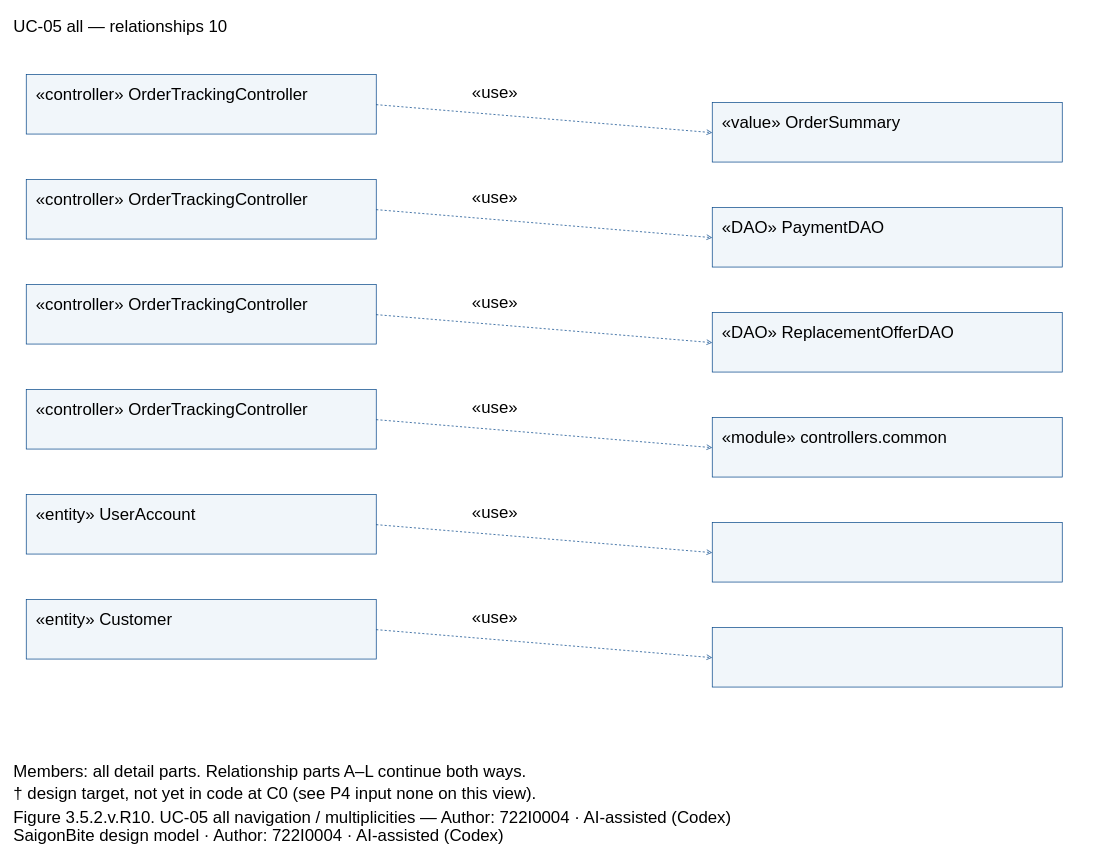
This 1095x858 diagram has some shape labels left out. The shapes that lost their labels are listed below. From the top down, each one's box as (x1, y1, x2, y2) in pixels, then its label:
(712, 522, 1062, 582): «enumeration» Role
(712, 627, 1062, 687): «enumeration» CustomerType
